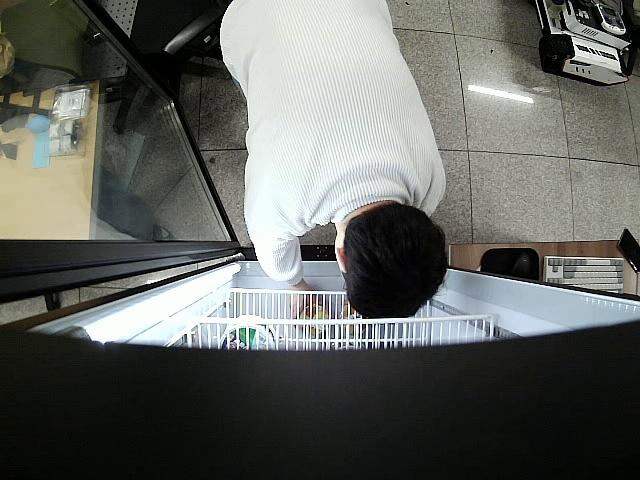00_hand: (289, 282, 322, 322)
04_chapagetti_S: (296, 304, 329, 335)
